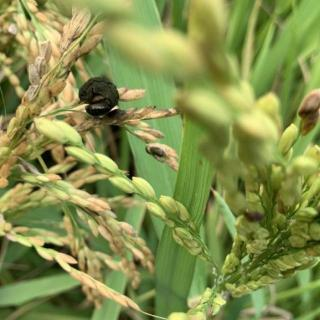Gosong-Palsu: (77, 74, 122, 118)
